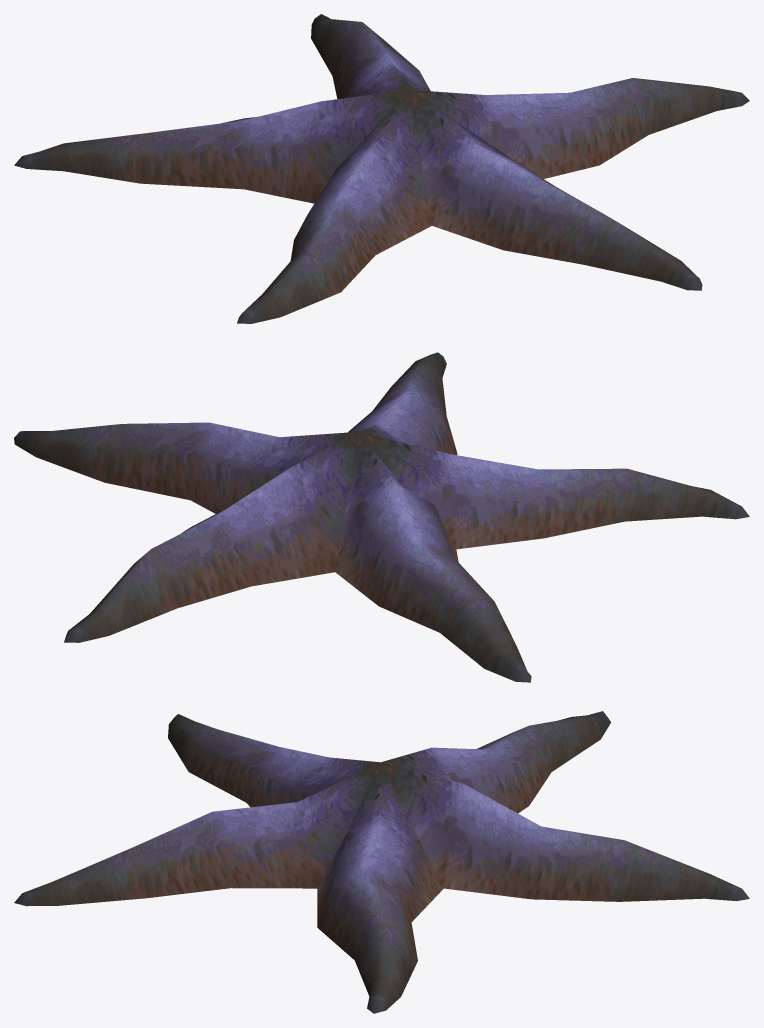
File: 5010_Item_haixing_02.FBX
The picture shows the model from 3 angles, top to bottom: view 1: azimuth 30°, elevation 25°; view 2: azimuth 150°, elevation 25°; view 3: azimuth 270°, elevation 25°; orthographic projection. The views are drawn at different scales.
Parts seen in each view (by area): view 1: 5010_Item_haixing_02; view 2: 5010_Item_haixing_02; view 3: 5010_Item_haixing_02.
Part boxes in pixels (<box>): 5010_Item_haixing_02: <box>14,14,749,323</box>; 5010_Item_haixing_02: <box>14,352,749,682</box>; 5010_Item_haixing_02: <box>14,711,749,1013</box>.
Bounding box in the file's own units: 155 × 21.74 × 162.
